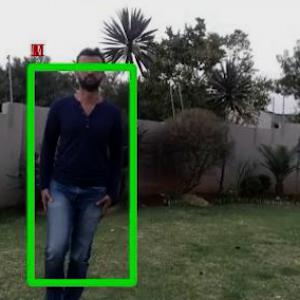follow: (35, 45, 116, 299)
